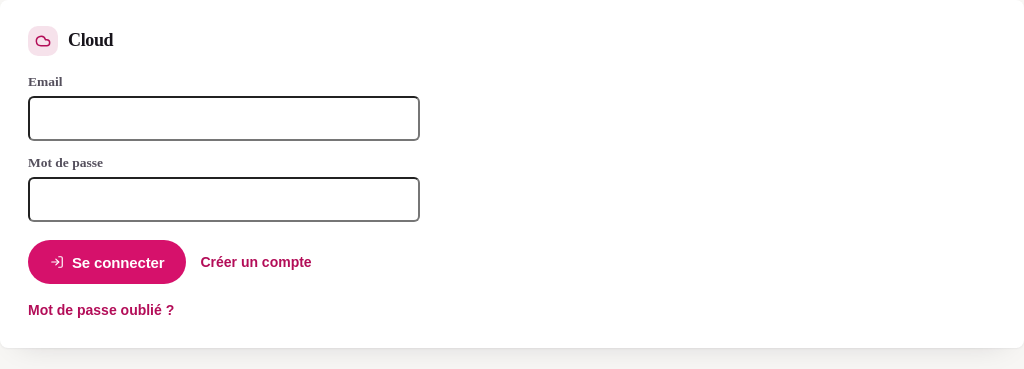
CloudAccountPanel — mot de passe oublié › n'affiche pas « Mot de passe oublié ? » dans le formulaire de création de compte
Click the button "Créer un compte": (256, 262) left=200, top=250, right=312, bottom=274
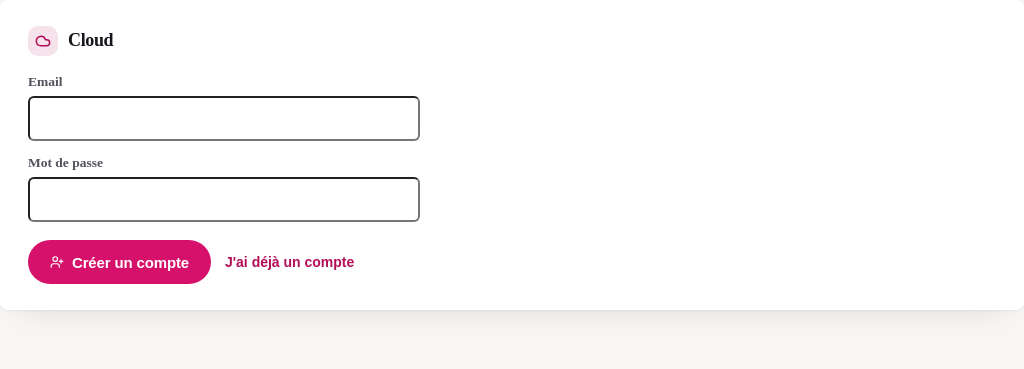
Check: the button "Mot de passe oublié ?" is gone
